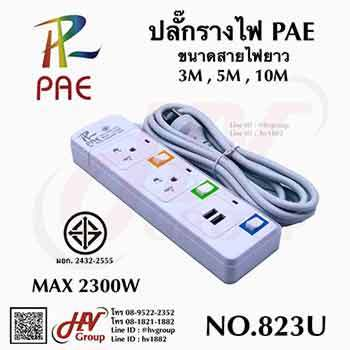Three_eye_plug: (67, 110, 285, 288)
